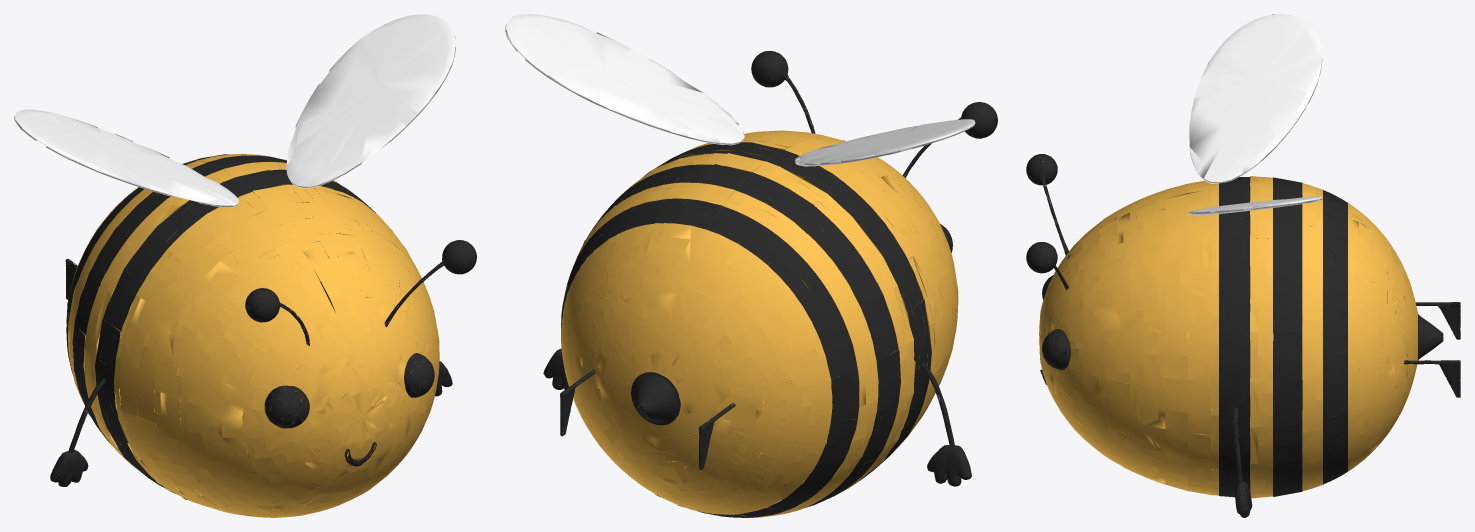
Rendered from bee.glb.
3 views of the same model, side by side, from view 1: azimuth 30°, elevation 25°; view 2: azimuth 150°, elevation 25°; view 3: azimuth 270°, elevation 25° (orthographic). The views are drawn at different scales.
Parts seen in each view (by area): view 1: Bee; view 2: Bee; view 3: Bee.
Boxes of the visible parts, x1,y1,x2,y2 form: Bee: (14,14,476,517); Bee: (505,14,997,517); Bee: (1026,14,1460,517).
Bounding box in the file's own units: 1.38 × 1.26 × 1.32.
